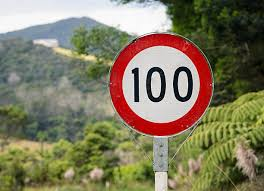Speed_limit_100km: (109, 32, 214, 138)
